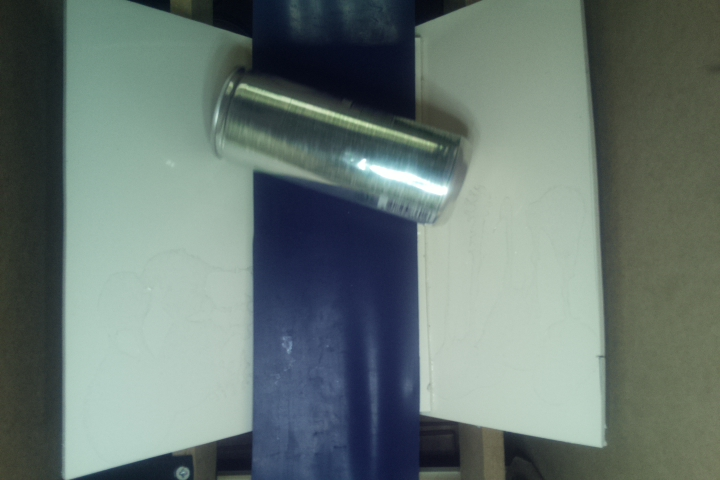can: (210, 67, 473, 225)
